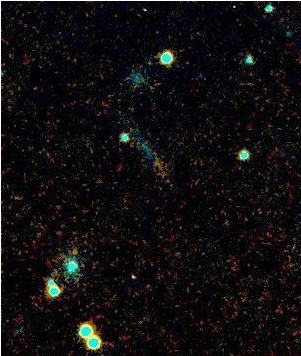star: (122, 260, 152, 290)
